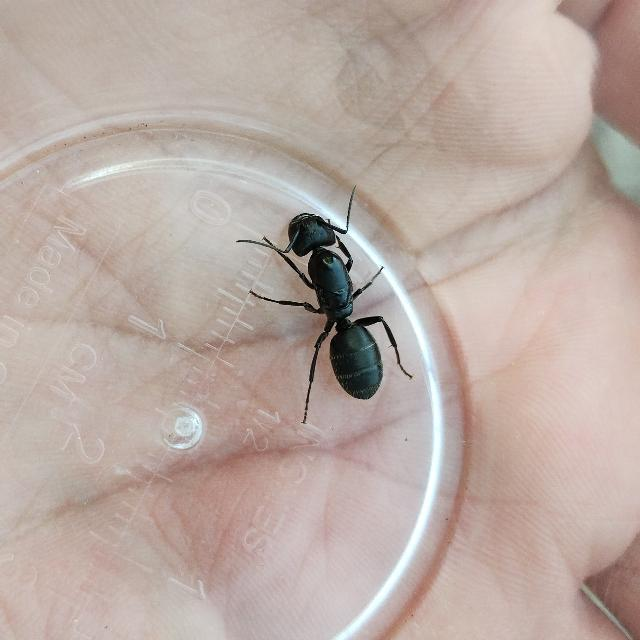Camponotus: (240, 177, 422, 419)
